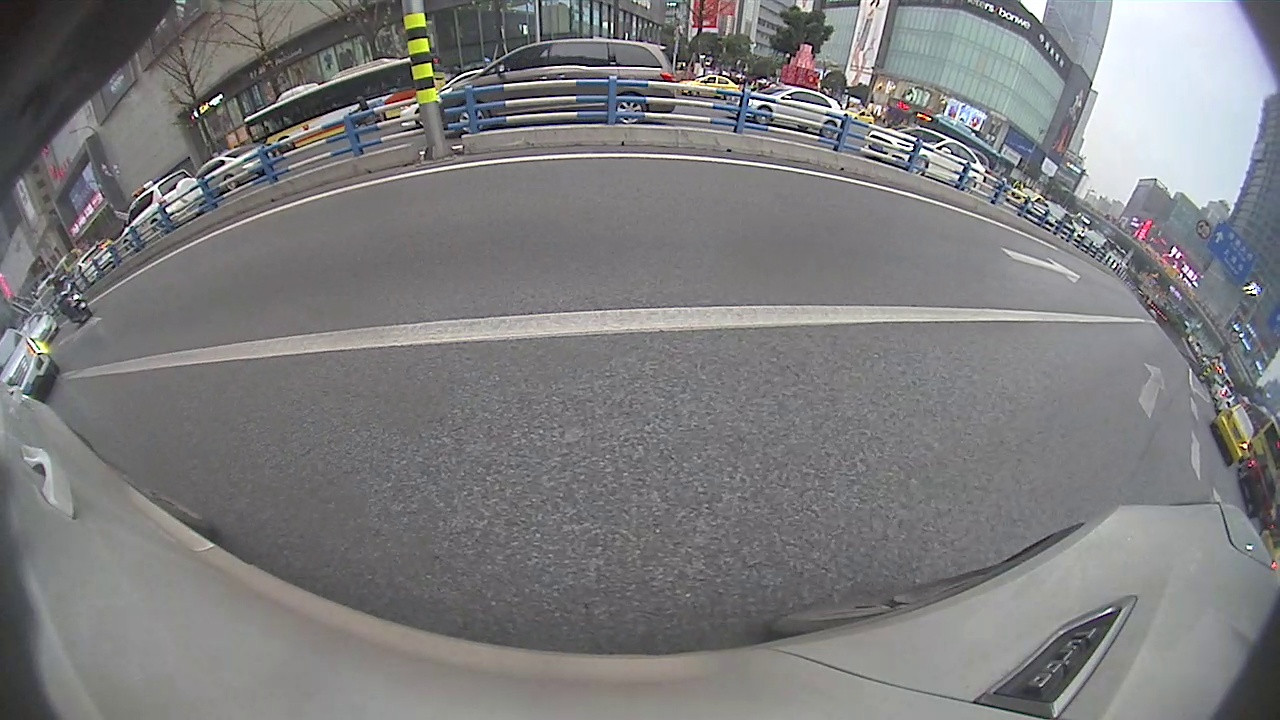bus: (239, 55, 453, 157)
car: (433, 35, 678, 136), (861, 123, 989, 196), (118, 169, 211, 256), (725, 82, 845, 145)
front: (460, 102, 493, 136), (751, 107, 774, 127)
rear: (612, 93, 648, 126), (818, 122, 839, 142)
rider: (45, 270, 95, 325)
